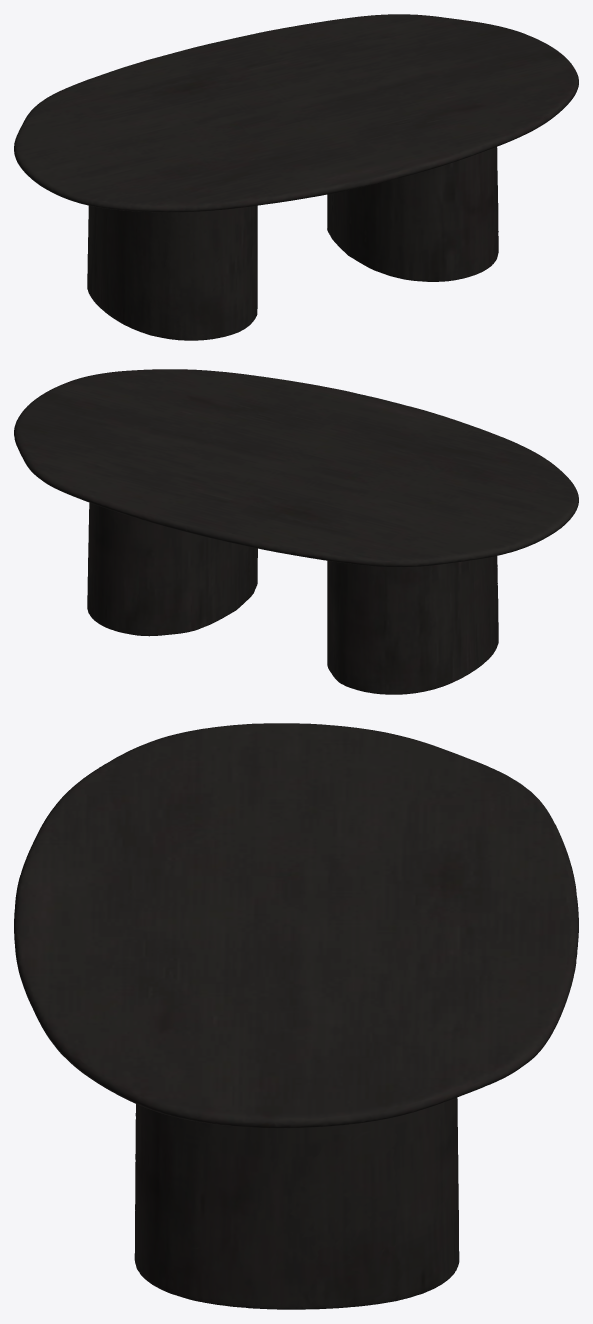
Rendered from dining-table.glb.
3 renders of one model, top to bottom at view 1: azimuth 30°, elevation 25°; view 2: azimuth 150°, elevation 25°; view 3: azimuth 270°, elevation 25°, orthographic. The views are drawn at different scales.
Parts seen in each view (by area): view 1: world; view 2: world; view 3: world.
Part boxes in pixels (x1,y1,x2,y2): world: (14, 14, 578, 340); world: (14, 369, 578, 694); world: (14, 723, 578, 1309).
Bounding box in the file's own units: 1 × 0.2937 × 0.601.
Materials: 1 (1 with a texture image).
